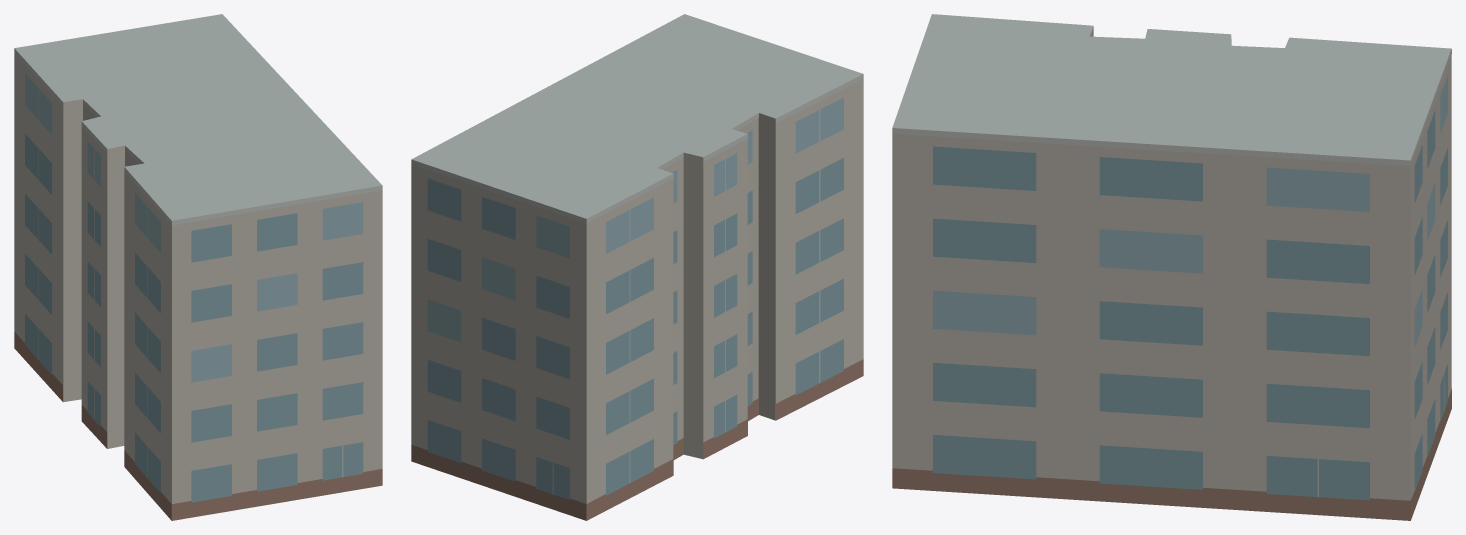
Rendered from survey-upis-32520273.glb.
3 views of the same model, side by side, from view 1: azimuth 30°, elevation 25°; view 2: azimuth 150°, elevation 25°; view 3: azimuth 270°, elevation 25° (orthographic). The views are drawn at different scales.
Visible parts, largest first — view 1: survey-upis-32520273.tmp; view 2: survey-upis-32520273.tmp; view 3: survey-upis-32520273.tmp.
Part boxes in pixels (x1=…): survey-upis-32520273.tmp: x1=14, y1=14, x2=382, y2=520; survey-upis-32520273.tmp: x1=411, y1=14, x2=863, y2=520; survey-upis-32520273.tmp: x1=892, y1=14, x2=1451, y2=520.
Size of the model in its own units: 13.3 by 15.25 by 21.46.
